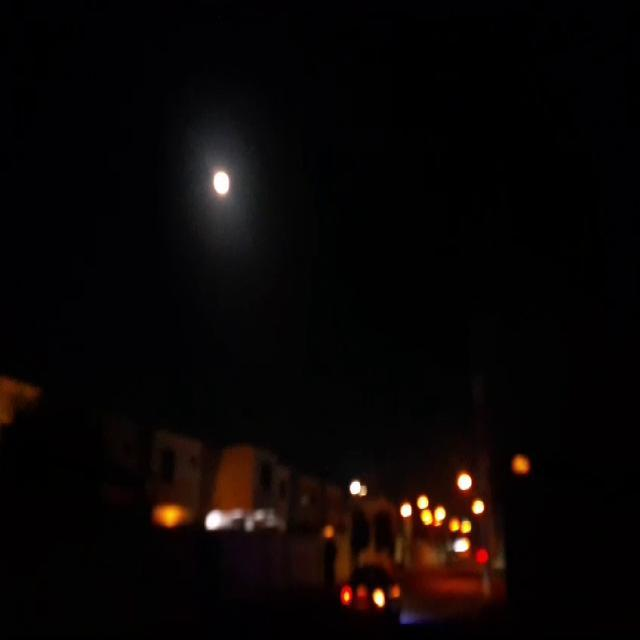moon: (211, 166, 231, 200)
